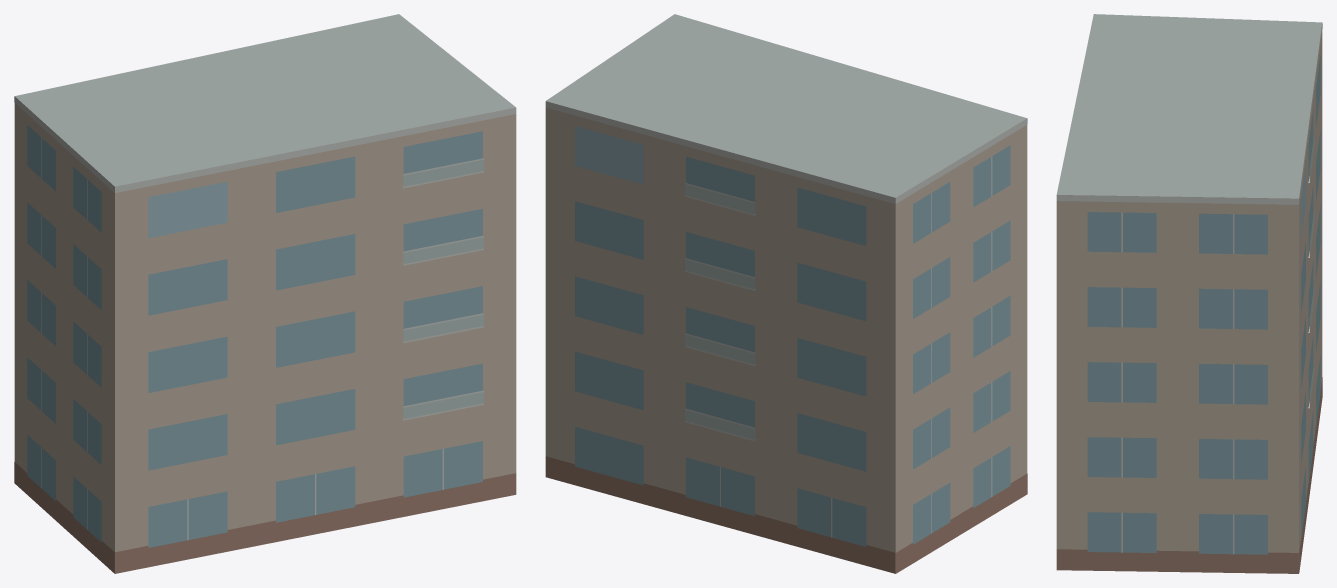
Rendered from survey-upis-32733821.glb.
The picture shows the model from 3 angles, left to right: view 1: azimuth 30°, elevation 25°; view 2: azimuth 150°, elevation 25°; view 3: azimuth 270°, elevation 25°; orthographic projection. The views are drawn at different scales.
Parts seen in each view (by area): view 1: survey-upis-32733821.tmp; view 2: survey-upis-32733821.tmp; view 3: survey-upis-32733821.tmp.
Boxes of the visible parts, box(x1,y1,x2,y2) form: survey-upis-32733821.tmp: box(14, 14, 516, 573); survey-upis-32733821.tmp: box(545, 14, 1027, 573); survey-upis-32733821.tmp: box(1056, 14, 1322, 573).
Bounding box in the file's own units: 15.52 × 14.7 × 9.45.
